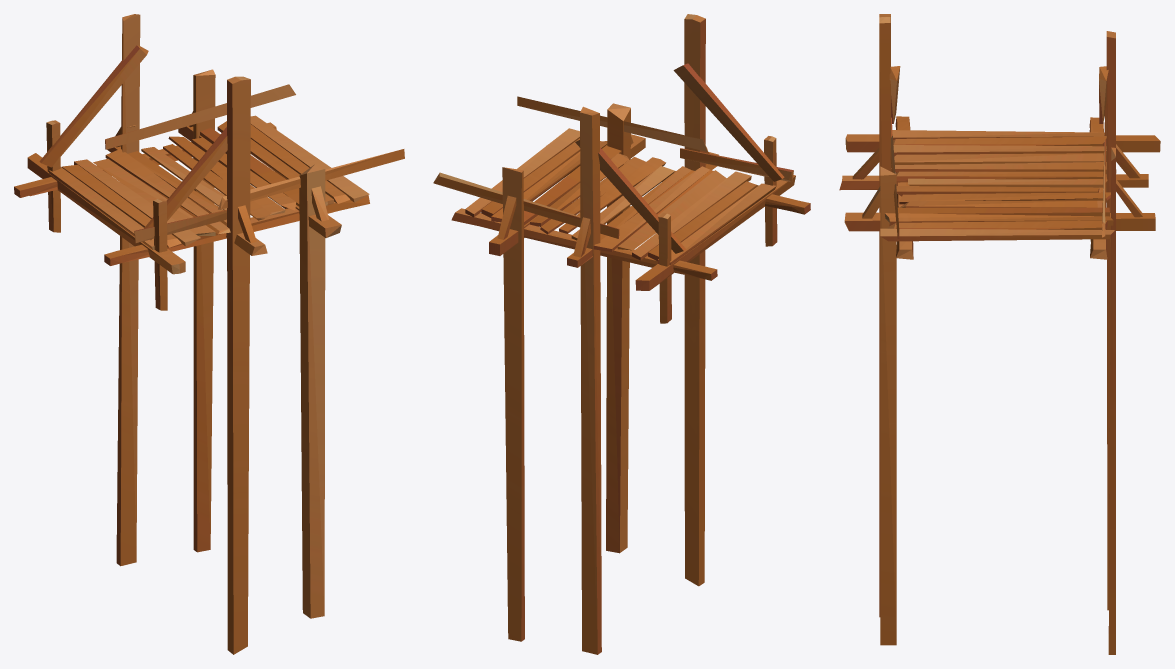
File: bridge006.gltf
The picture shows the model from 3 angles, left to right: view 1: azimuth 30°, elevation 25°; view 2: azimuth 150°, elevation 25°; view 3: azimuth 270°, elevation 25°; orthographic projection. The views are drawn at different scales.
Parts seen in each view (by area): view 1: node_Manmade06_5_-518262; view 2: node_Manmade06_5_-518262; view 3: node_Manmade06_5_-518262.
Boxes of the visible parts, x1,y1,x2,y2 form: node_Manmade06_5_-518262: (14,14,404,654); node_Manmade06_5_-518262: (433,14,810,654); node_Manmade06_5_-518262: (839,14,1160,654).
Size of what is drawn, in the model's own units: 2.91 by 5.39 by 2.61.
1 material, 1 textured.
